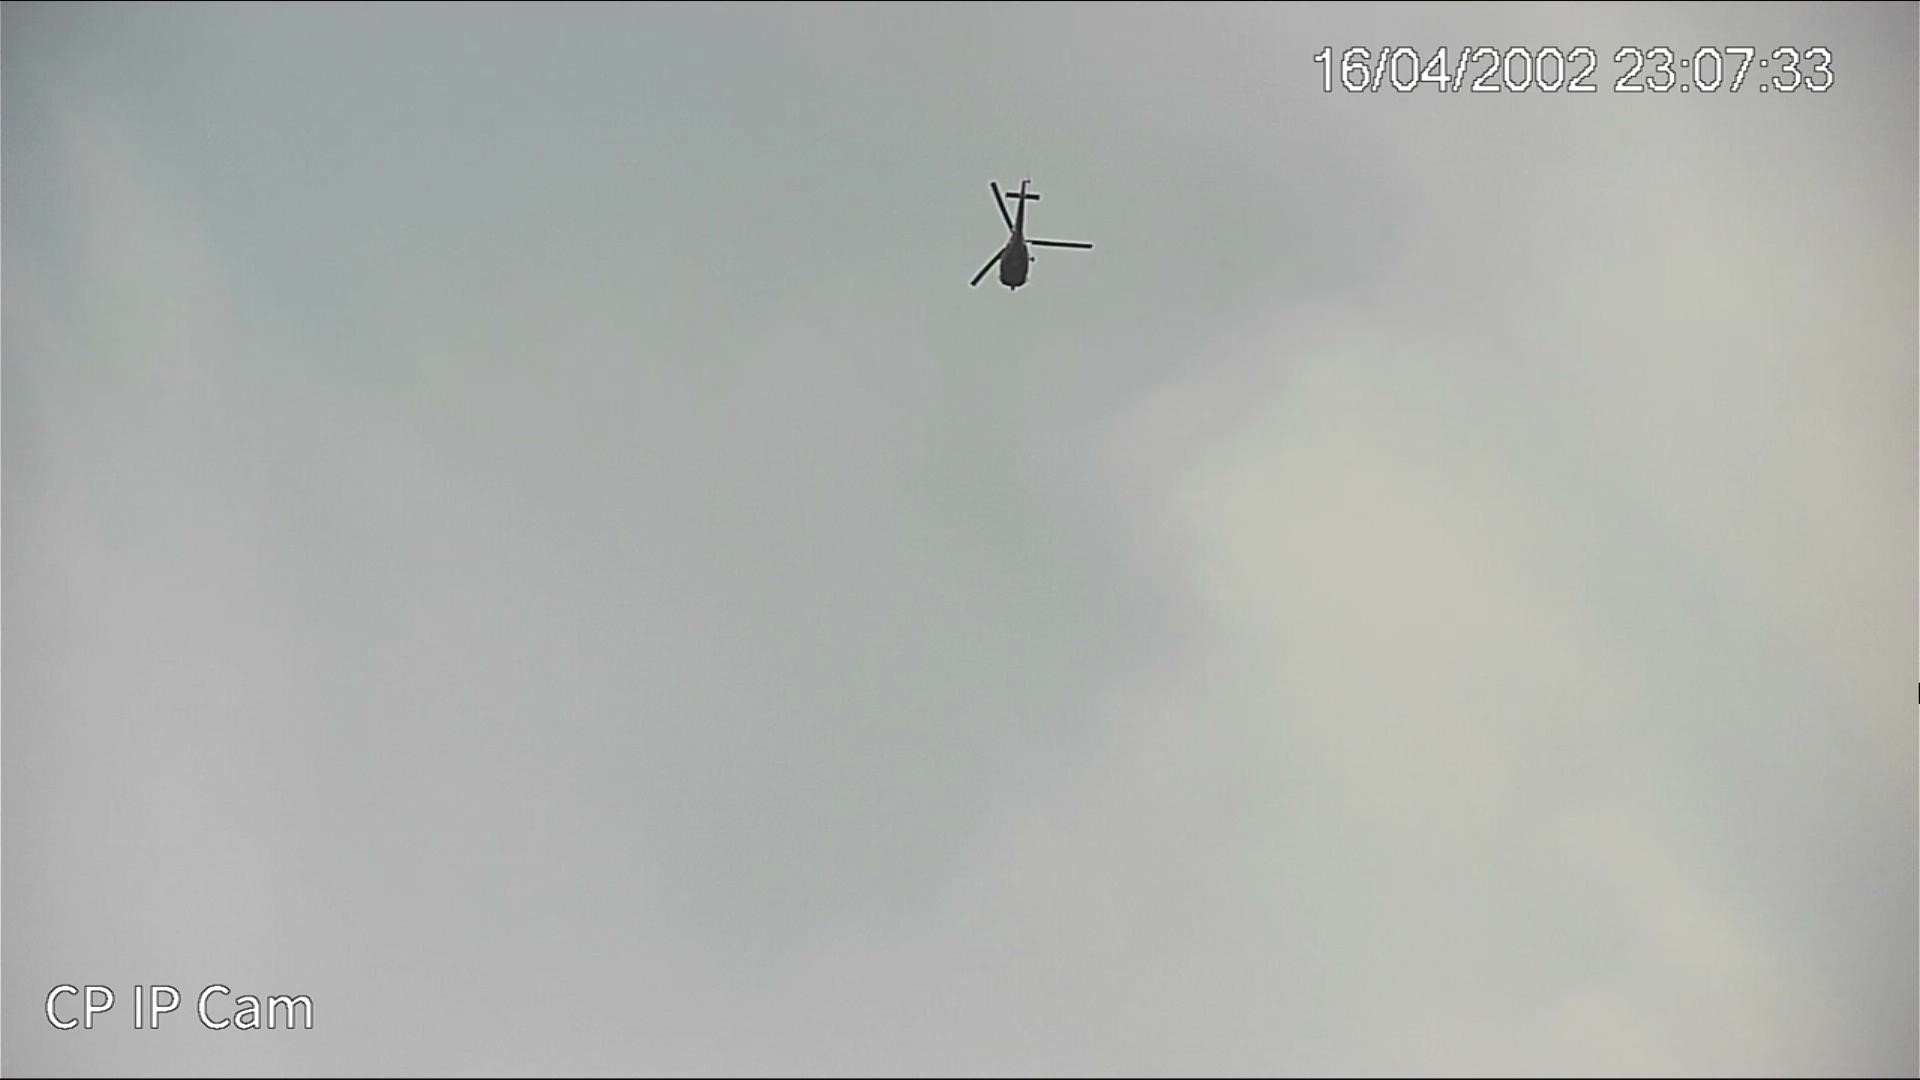SU_30: (973, 177, 1096, 305)
